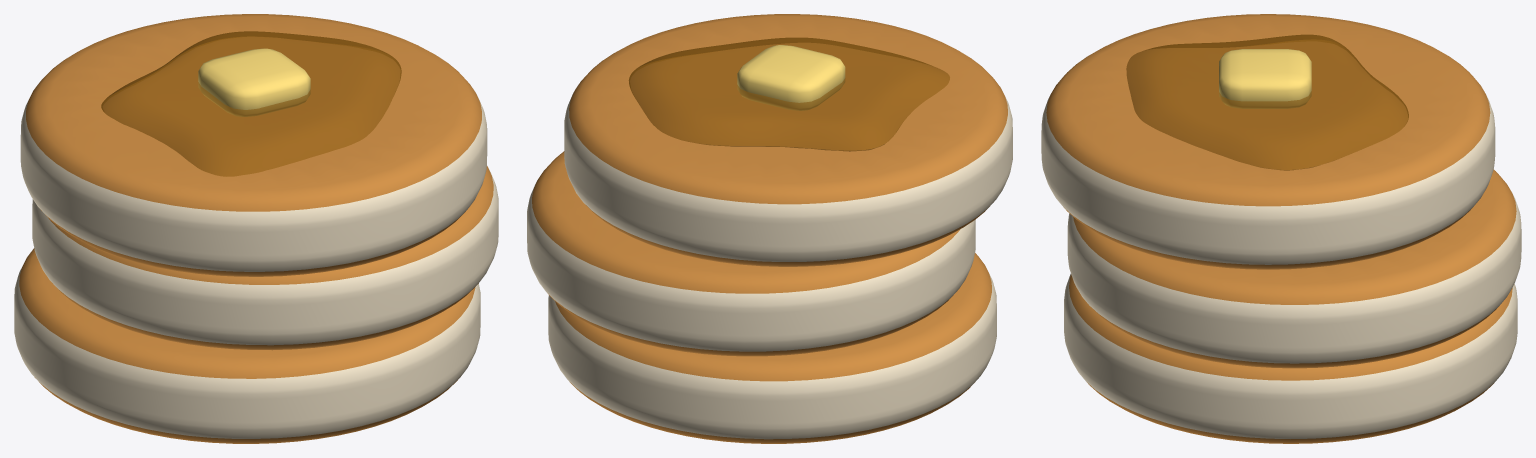
Rendered from cake.glb.
The picture shows the model from 3 angles, left to right: view 1: azimuth 30°, elevation 25°; view 2: azimuth 150°, elevation 25°; view 3: azimuth 270°, elevation 25°; orthographic projection. The views are drawn at different scales.
Visible parts, largest first — view 1: Circle.002, Circle, Circle.001, Cylinder, Cube; view 2: Circle.002, Circle.001, Circle, Cylinder, Cube; view 3: Circle.002, Circle.001, Circle, Cylinder, Cube.
Part boxes in pixels (x1,y1,x2,y2): Circle.002: [20, 14, 487, 276]; Circle: [14, 248, 480, 443]; Circle.001: [32, 166, 498, 350]; Cylinder: [101, 31, 401, 176]; Cube: [198, 48, 310, 116]; Circle.002: [564, 14, 1012, 266]; Circle.001: [527, 151, 975, 356]; Circle: [548, 253, 996, 443]; Cylinder: [628, 37, 949, 151]; Cube: [737, 45, 845, 110]; Circle.002: [1041, 14, 1495, 269]; Circle.001: [1067, 169, 1521, 368]; Circle: [1064, 273, 1517, 443]; Cylinder: [1126, 34, 1408, 170]; Cube: [1219, 49, 1311, 108].
Bounding box in the file's own units: 2.11 × 1.41 × 2.1.
